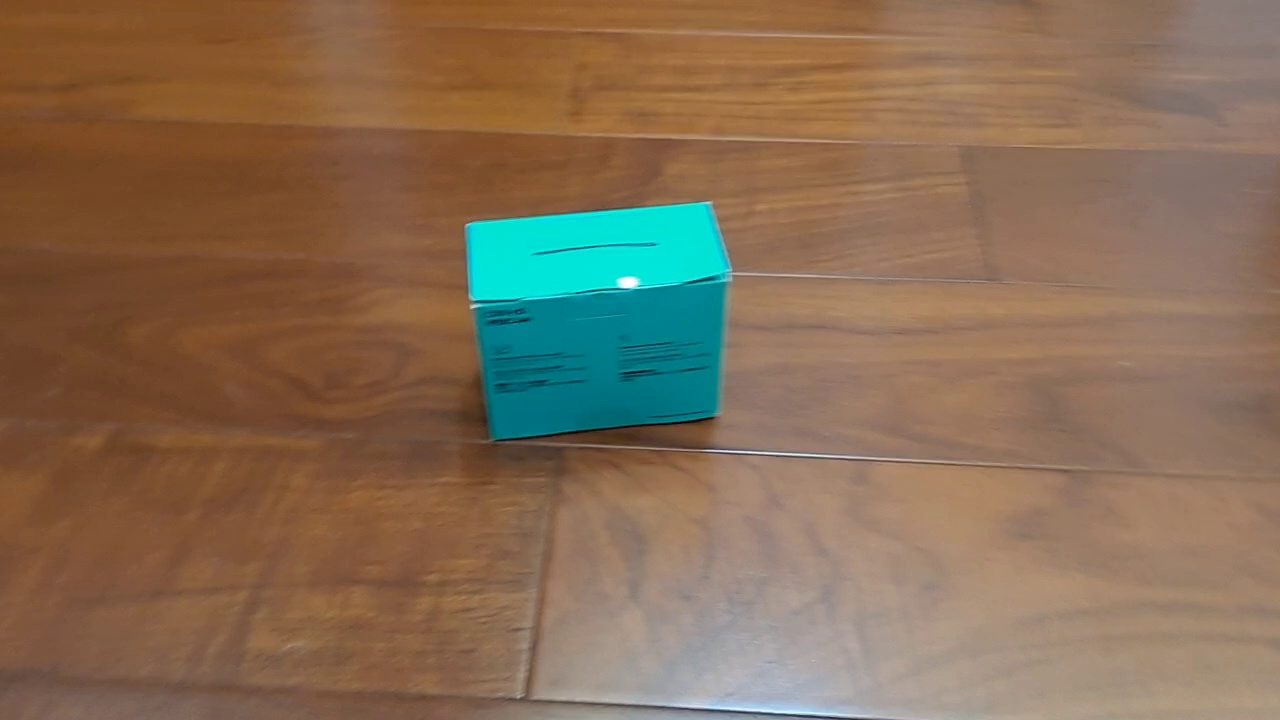webcam: (462, 199, 733, 444)
